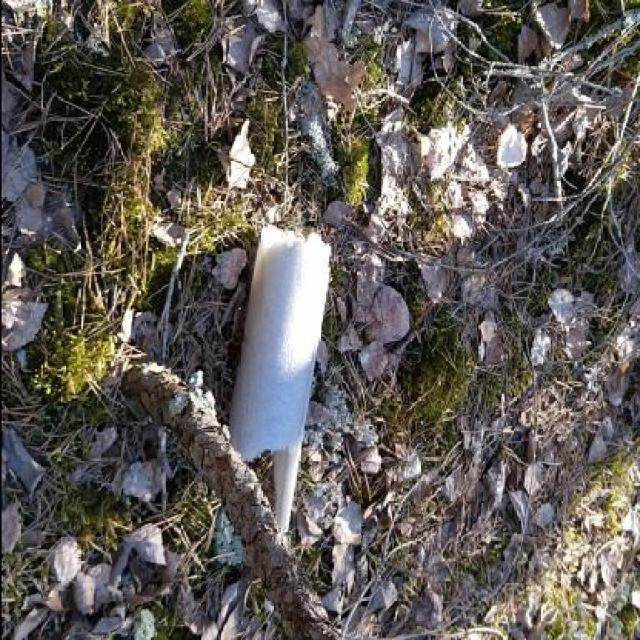foam: (228, 224, 332, 533)
